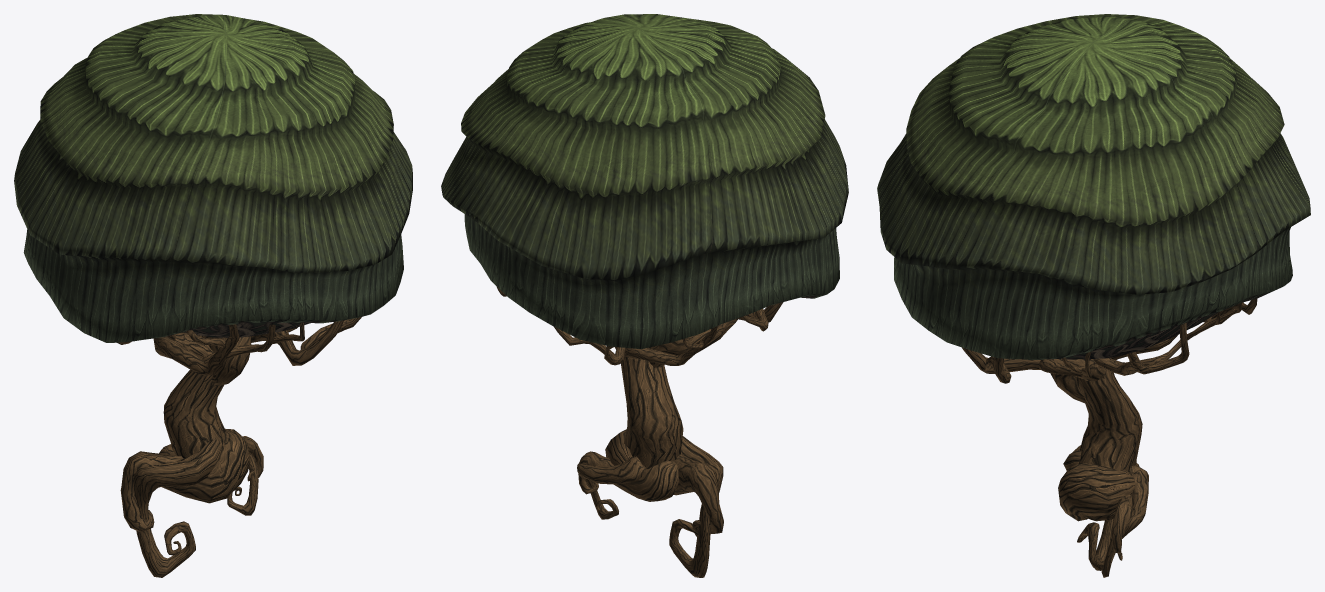
The model's file is Tree.glb.
3 views of the same model, side by side, from view 1: azimuth 30°, elevation 25°; view 2: azimuth 150°, elevation 25°; view 3: azimuth 270°, elevation 25° (orthographic). The views are drawn at different scales.
Visible parts, largest first — view 1: node_id33, node_id31; view 2: node_id33, node_id31; view 3: node_id33, node_id31.
Part boxes in pixels (x1,y1,x2,y2): node_id33: [14, 14, 412, 342]; node_id31: [117, 317, 361, 577]; node_id33: [441, 14, 848, 349]; node_id31: [497, 287, 783, 577]; node_id33: [877, 14, 1310, 359]; node_id31: [962, 298, 1257, 577].
Bounding box in the file's own units: 0.358 × 0.512 × 0.3595.
Materials: 2 (2 with a texture image).
